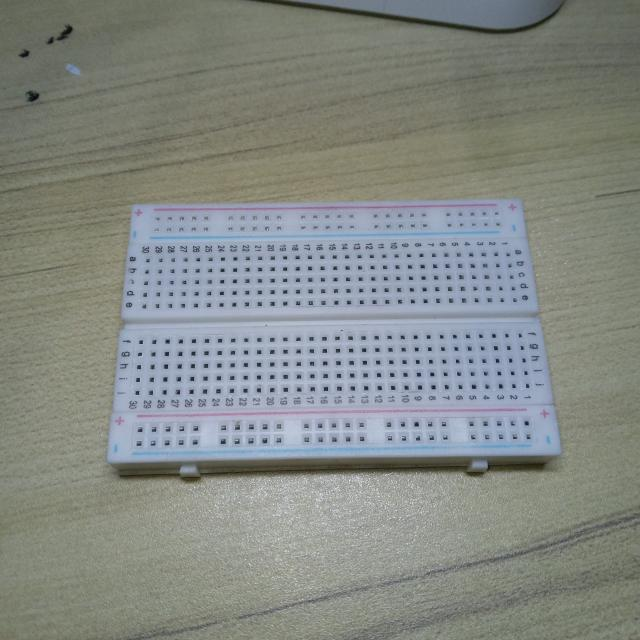breadboard: (104, 187, 566, 478)
